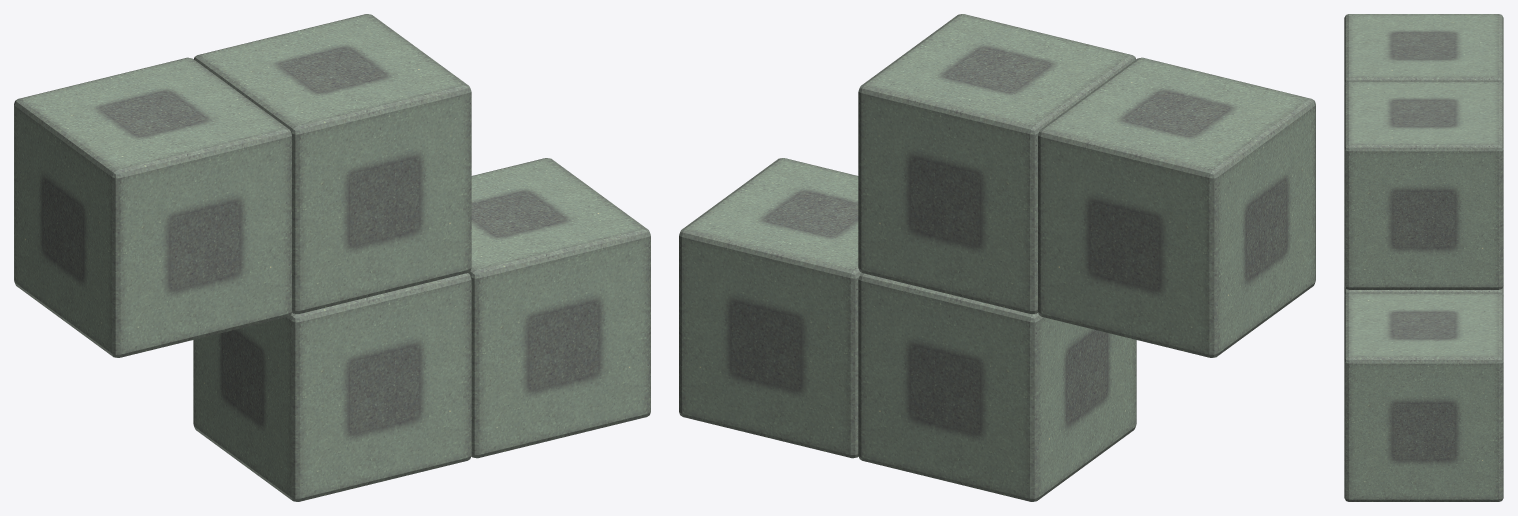
3 renders of one model, left to right at view 1: azimuth 30°, elevation 25°; view 2: azimuth 150°, elevation 25°; view 3: azimuth 270°, elevation 25°, orthographic. The views are drawn at different scales.
Parts seen in each view (by area): view 1: module_biais; view 2: module_biais; view 3: module_biais.
Part boxes in pixels (x1=…): module_biais: x1=14, y1=14, x2=650, y2=501; module_biais: x1=679, y1=14, x2=1315, y2=501; module_biais: x1=1344, y1=14, x2=1503, y2=501.
Size of the model in its own units: 300 by 200 by 100.
